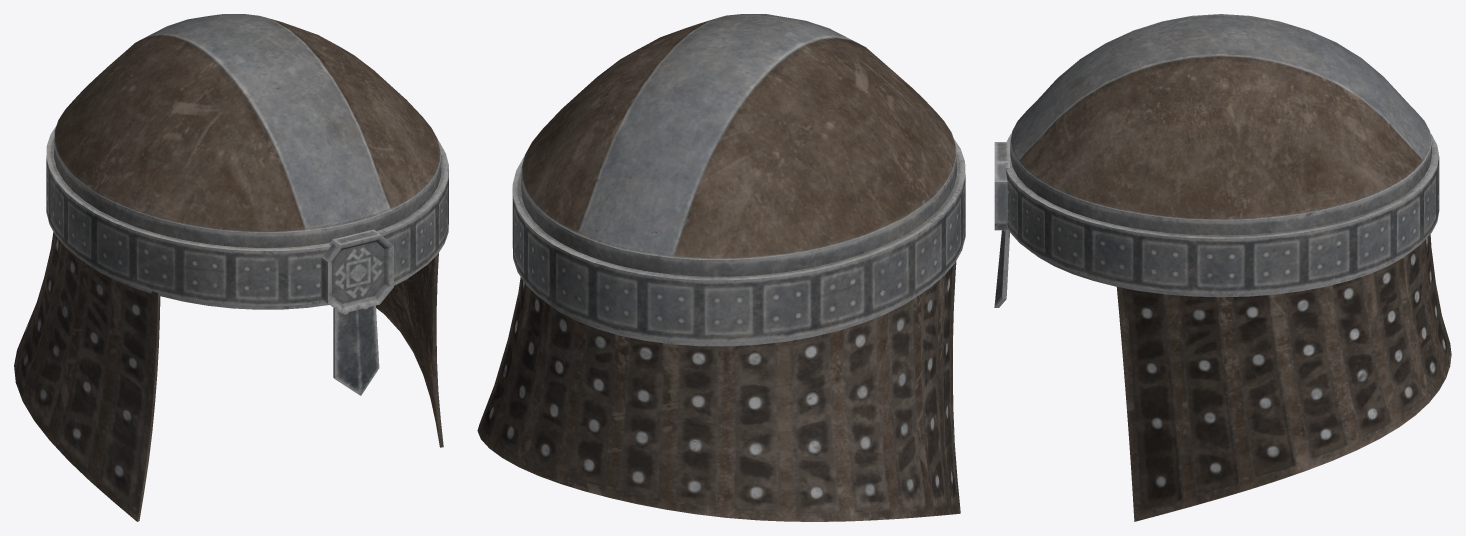
Rendered from sk_dwarf_erebor_helmet_leather_light_a.fbx.
3 renders of one model, left to right at view 1: azimuth 30°, elevation 25°; view 2: azimuth 150°, elevation 25°; view 3: azimuth 270°, elevation 25°, orthographic. The views are drawn at different scales.
Parts seen in each view (by area): view 1: sk_dwarf_erebor_helmet_leather_light_a; view 2: sk_dwarf_erebor_helmet_leather_light_a; view 3: sk_dwarf_erebor_helmet_leather_light_a.
Part boxes in pixels (<box>): sk_dwarf_erebor_helmet_leather_light_a: <box>14,14,448,521</box>; sk_dwarf_erebor_helmet_leather_light_a: <box>477,14,965,521</box>; sk_dwarf_erebor_helmet_leather_light_a: <box>994,14,1451,521</box>.
Size of the model in its own units: 0.2795 by 0.2995 by 0.3029.
